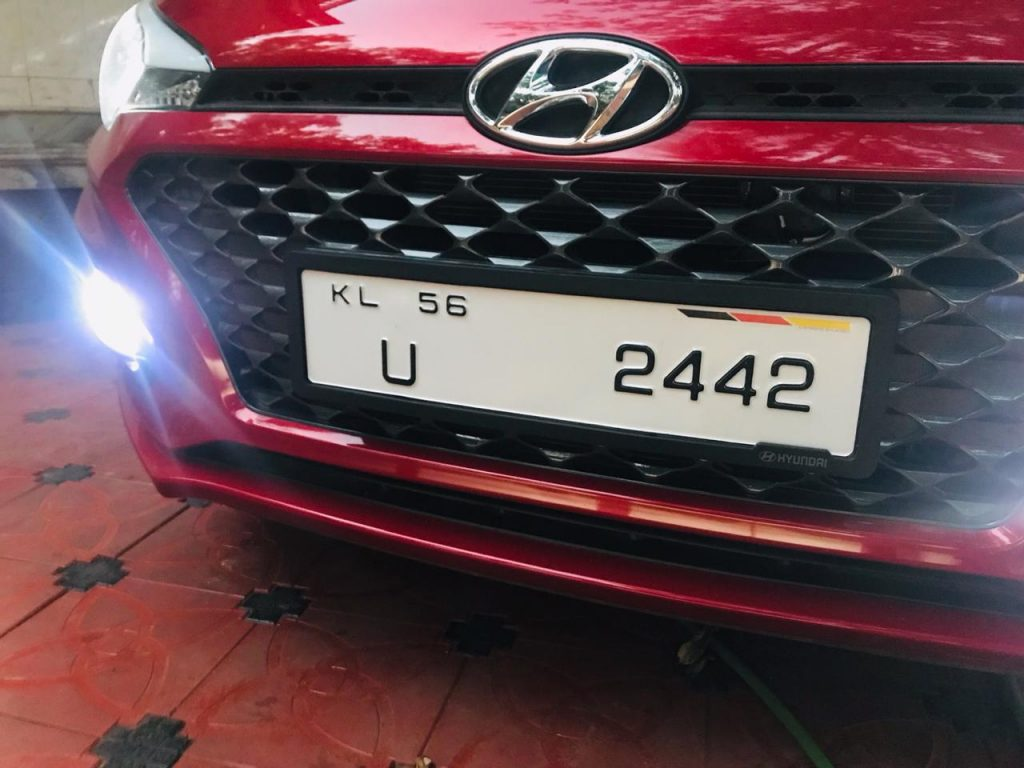number_plate: (283, 244, 906, 486)
